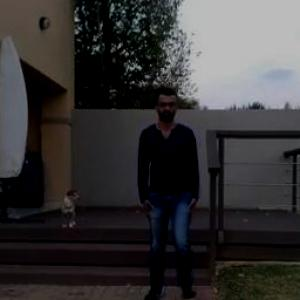follow: (124, 70, 198, 299)
